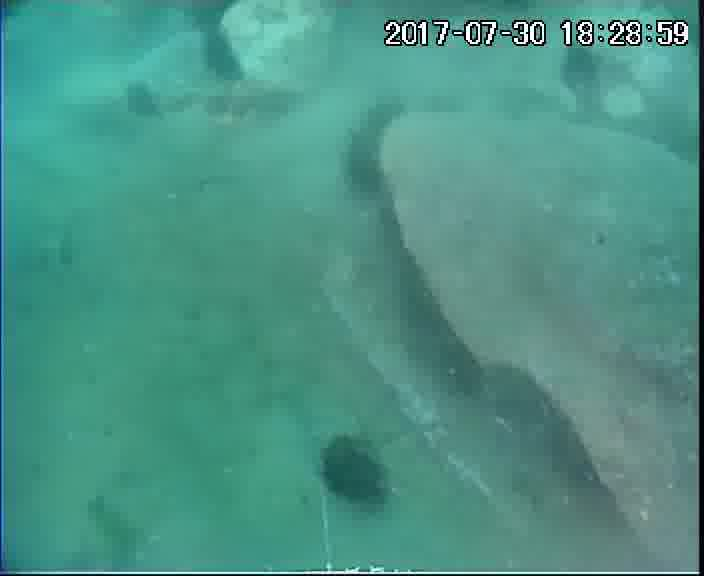echinus: (322, 435, 399, 516), (398, 266, 450, 335), (436, 335, 486, 399), (203, 32, 256, 86), (346, 133, 389, 192), (561, 43, 605, 92), (367, 96, 412, 137), (193, 1, 237, 26)
